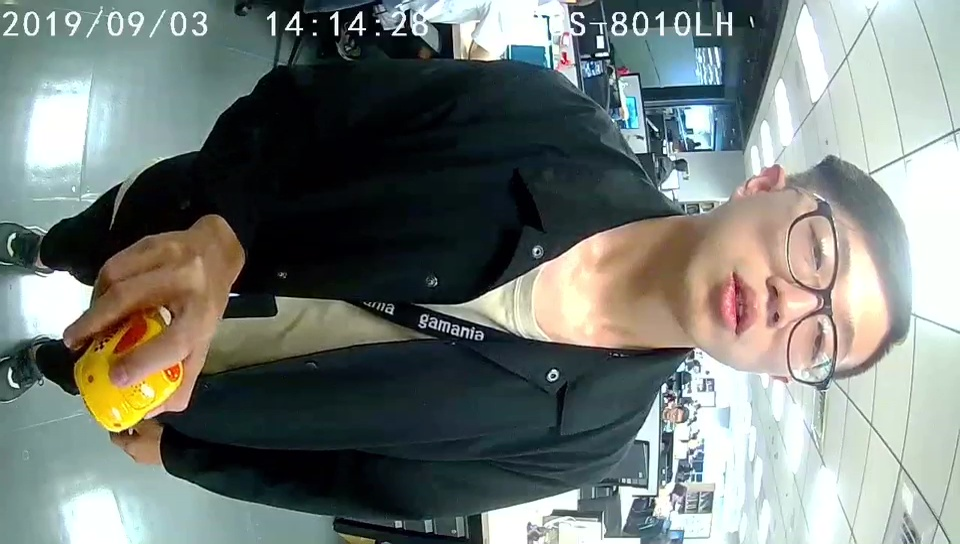car: (72, 313, 184, 436)
